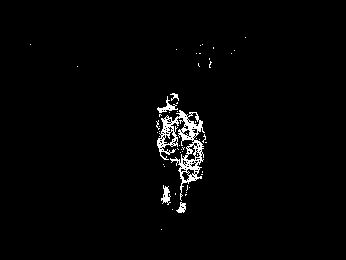person: (154, 91, 186, 208), (174, 110, 206, 218)
